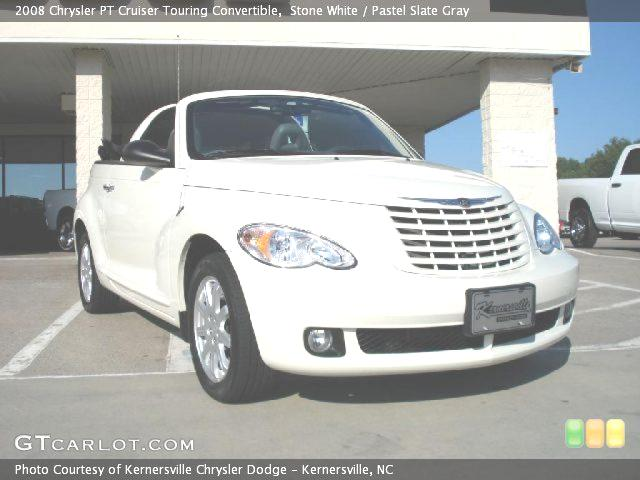Chrysler: (388, 187, 511, 214)
